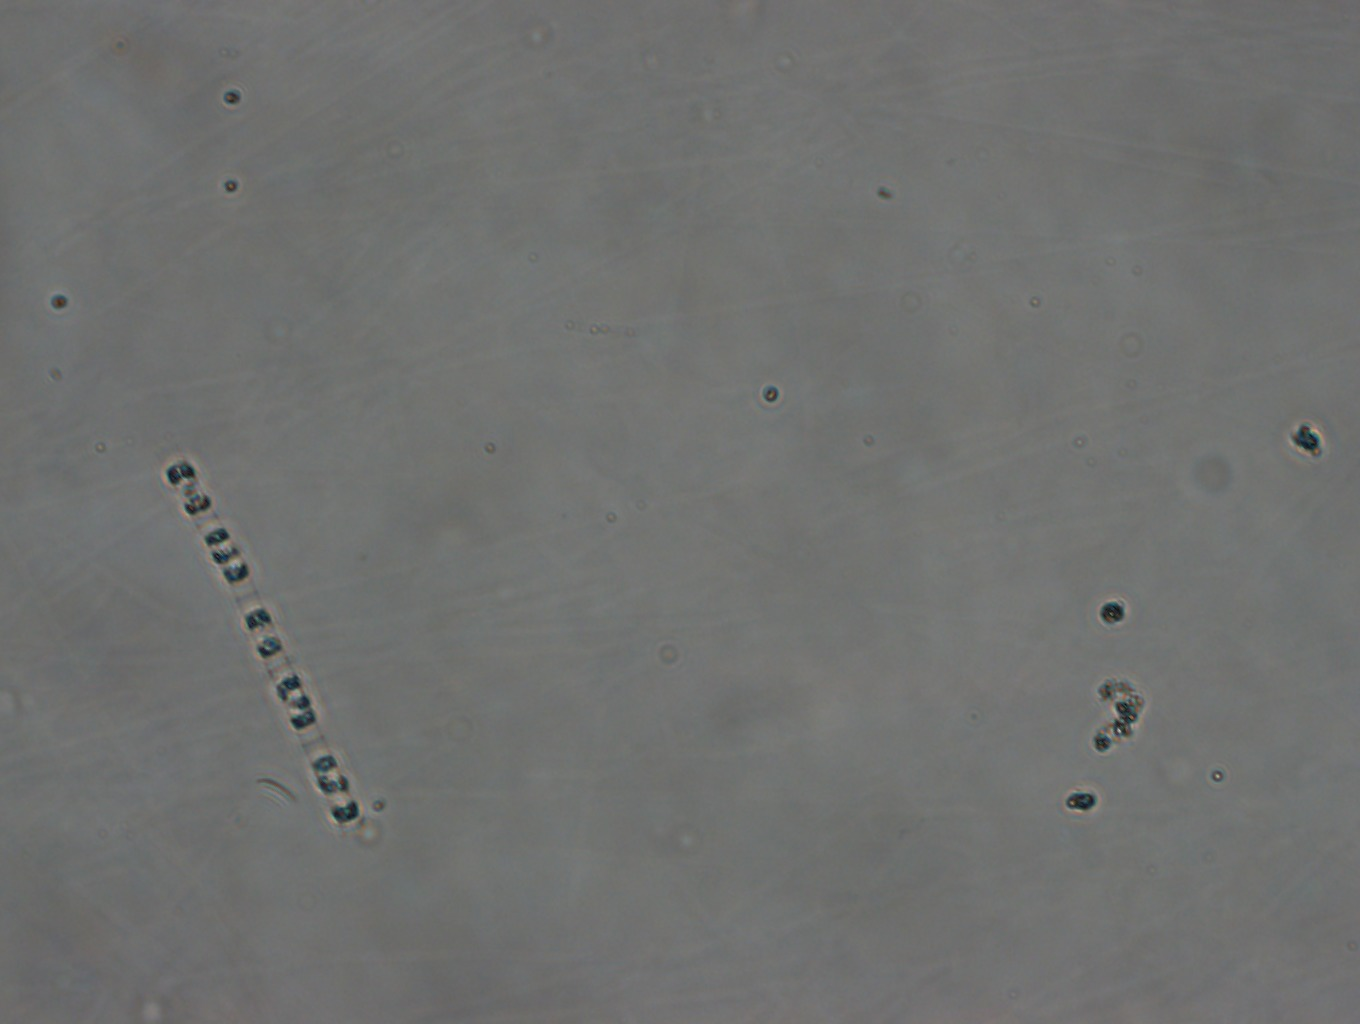skeletonema: (157, 455, 368, 839)
